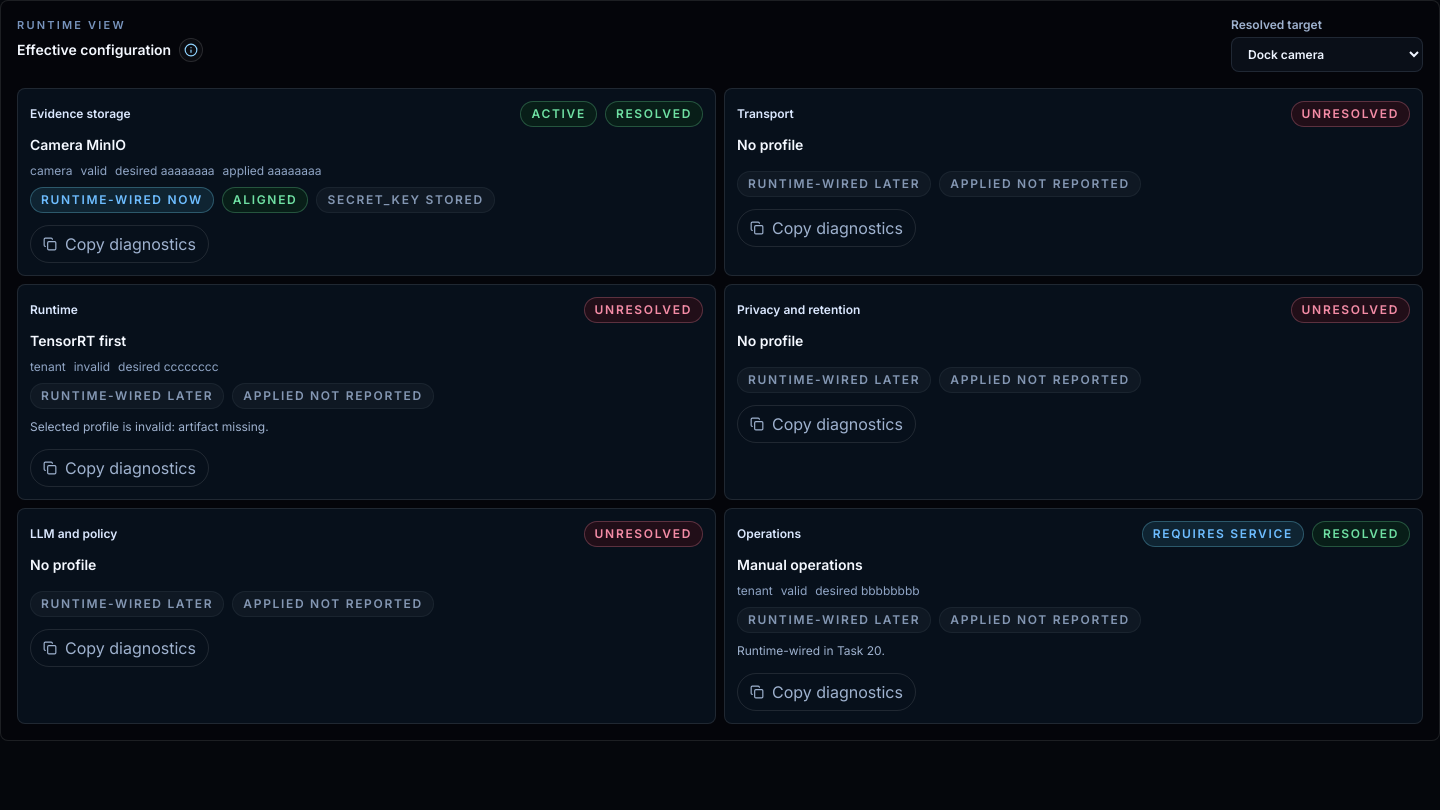
Test case: EffectiveConfigurationPanel › shows desired and runtime applied configuration help on demand
This screenshot has width=1440, height=810.
Click the button named "show effective configuration help": (191, 50) [179,38,203,62]
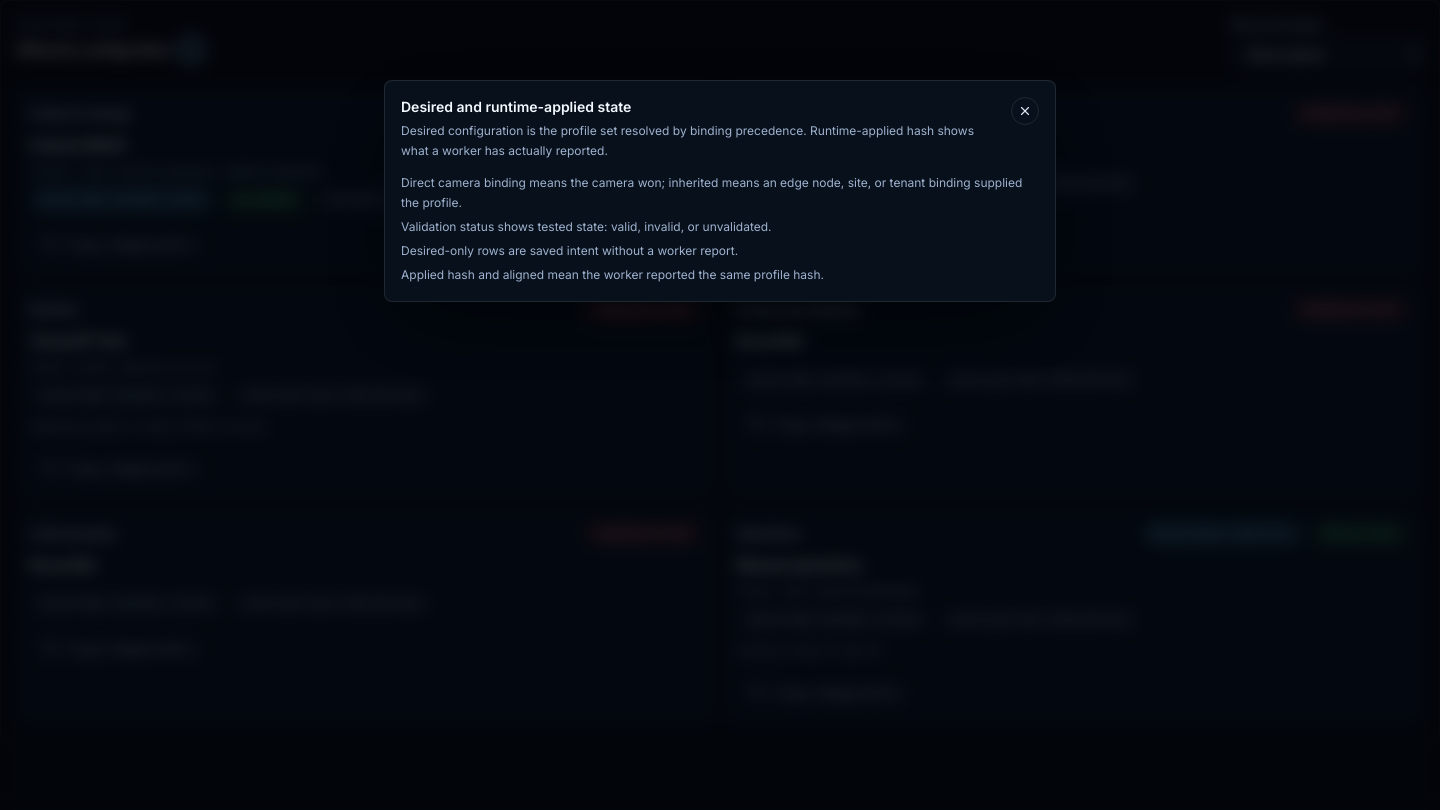
Expected: the text "runtime-applied hash" is shown, [401,123,974,158]
Expected: the list item "Direct camera binding" is shown, [401,175,1022,210]
Expected: the list item "Validation status shows tested state" is shown, [401,219,772,234]
